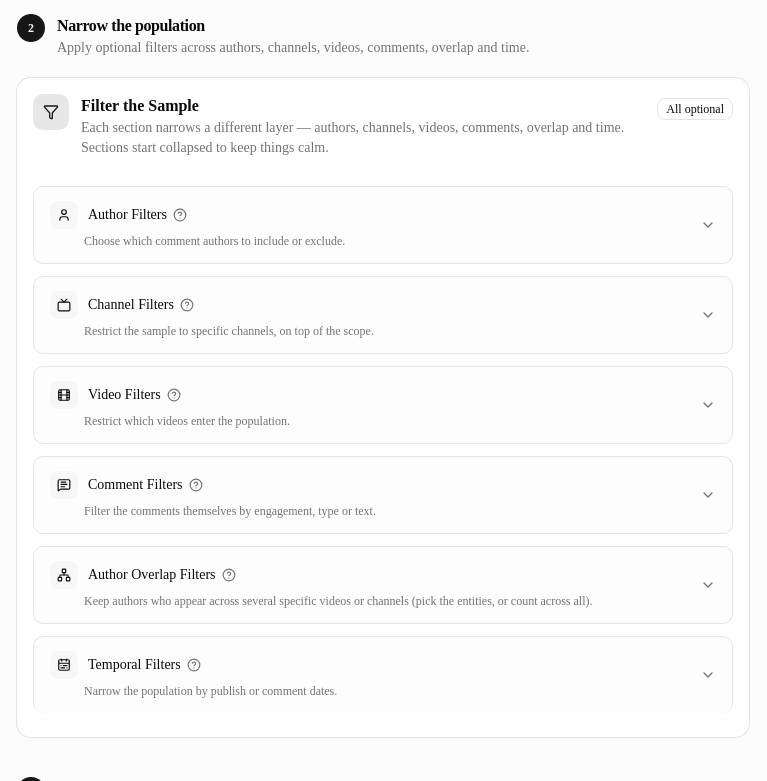
Test case: sampling: redesigned wizard layout › keeps filter sections collapsed until opened
(page scrolled)
Expected: the field with placeholder "Enter video ID and press Add" is not shown
Click the button "Video Filters Restrict which videos enter the population.": [124, 394] box [50, 367, 716, 443]
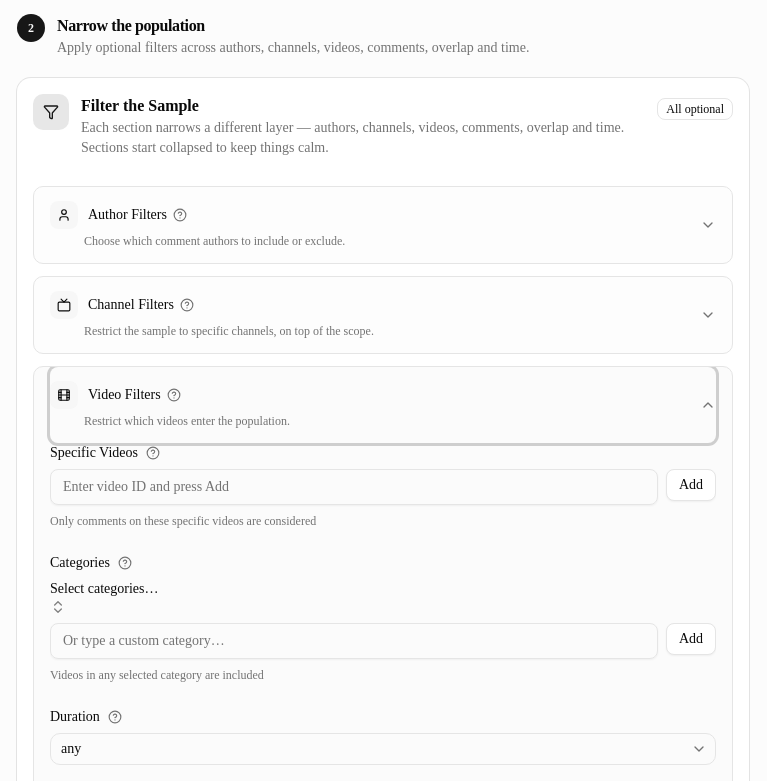
Expected: the field with placeholder "Enter video ID and press Add" is shown, [50, 469, 658, 505]
